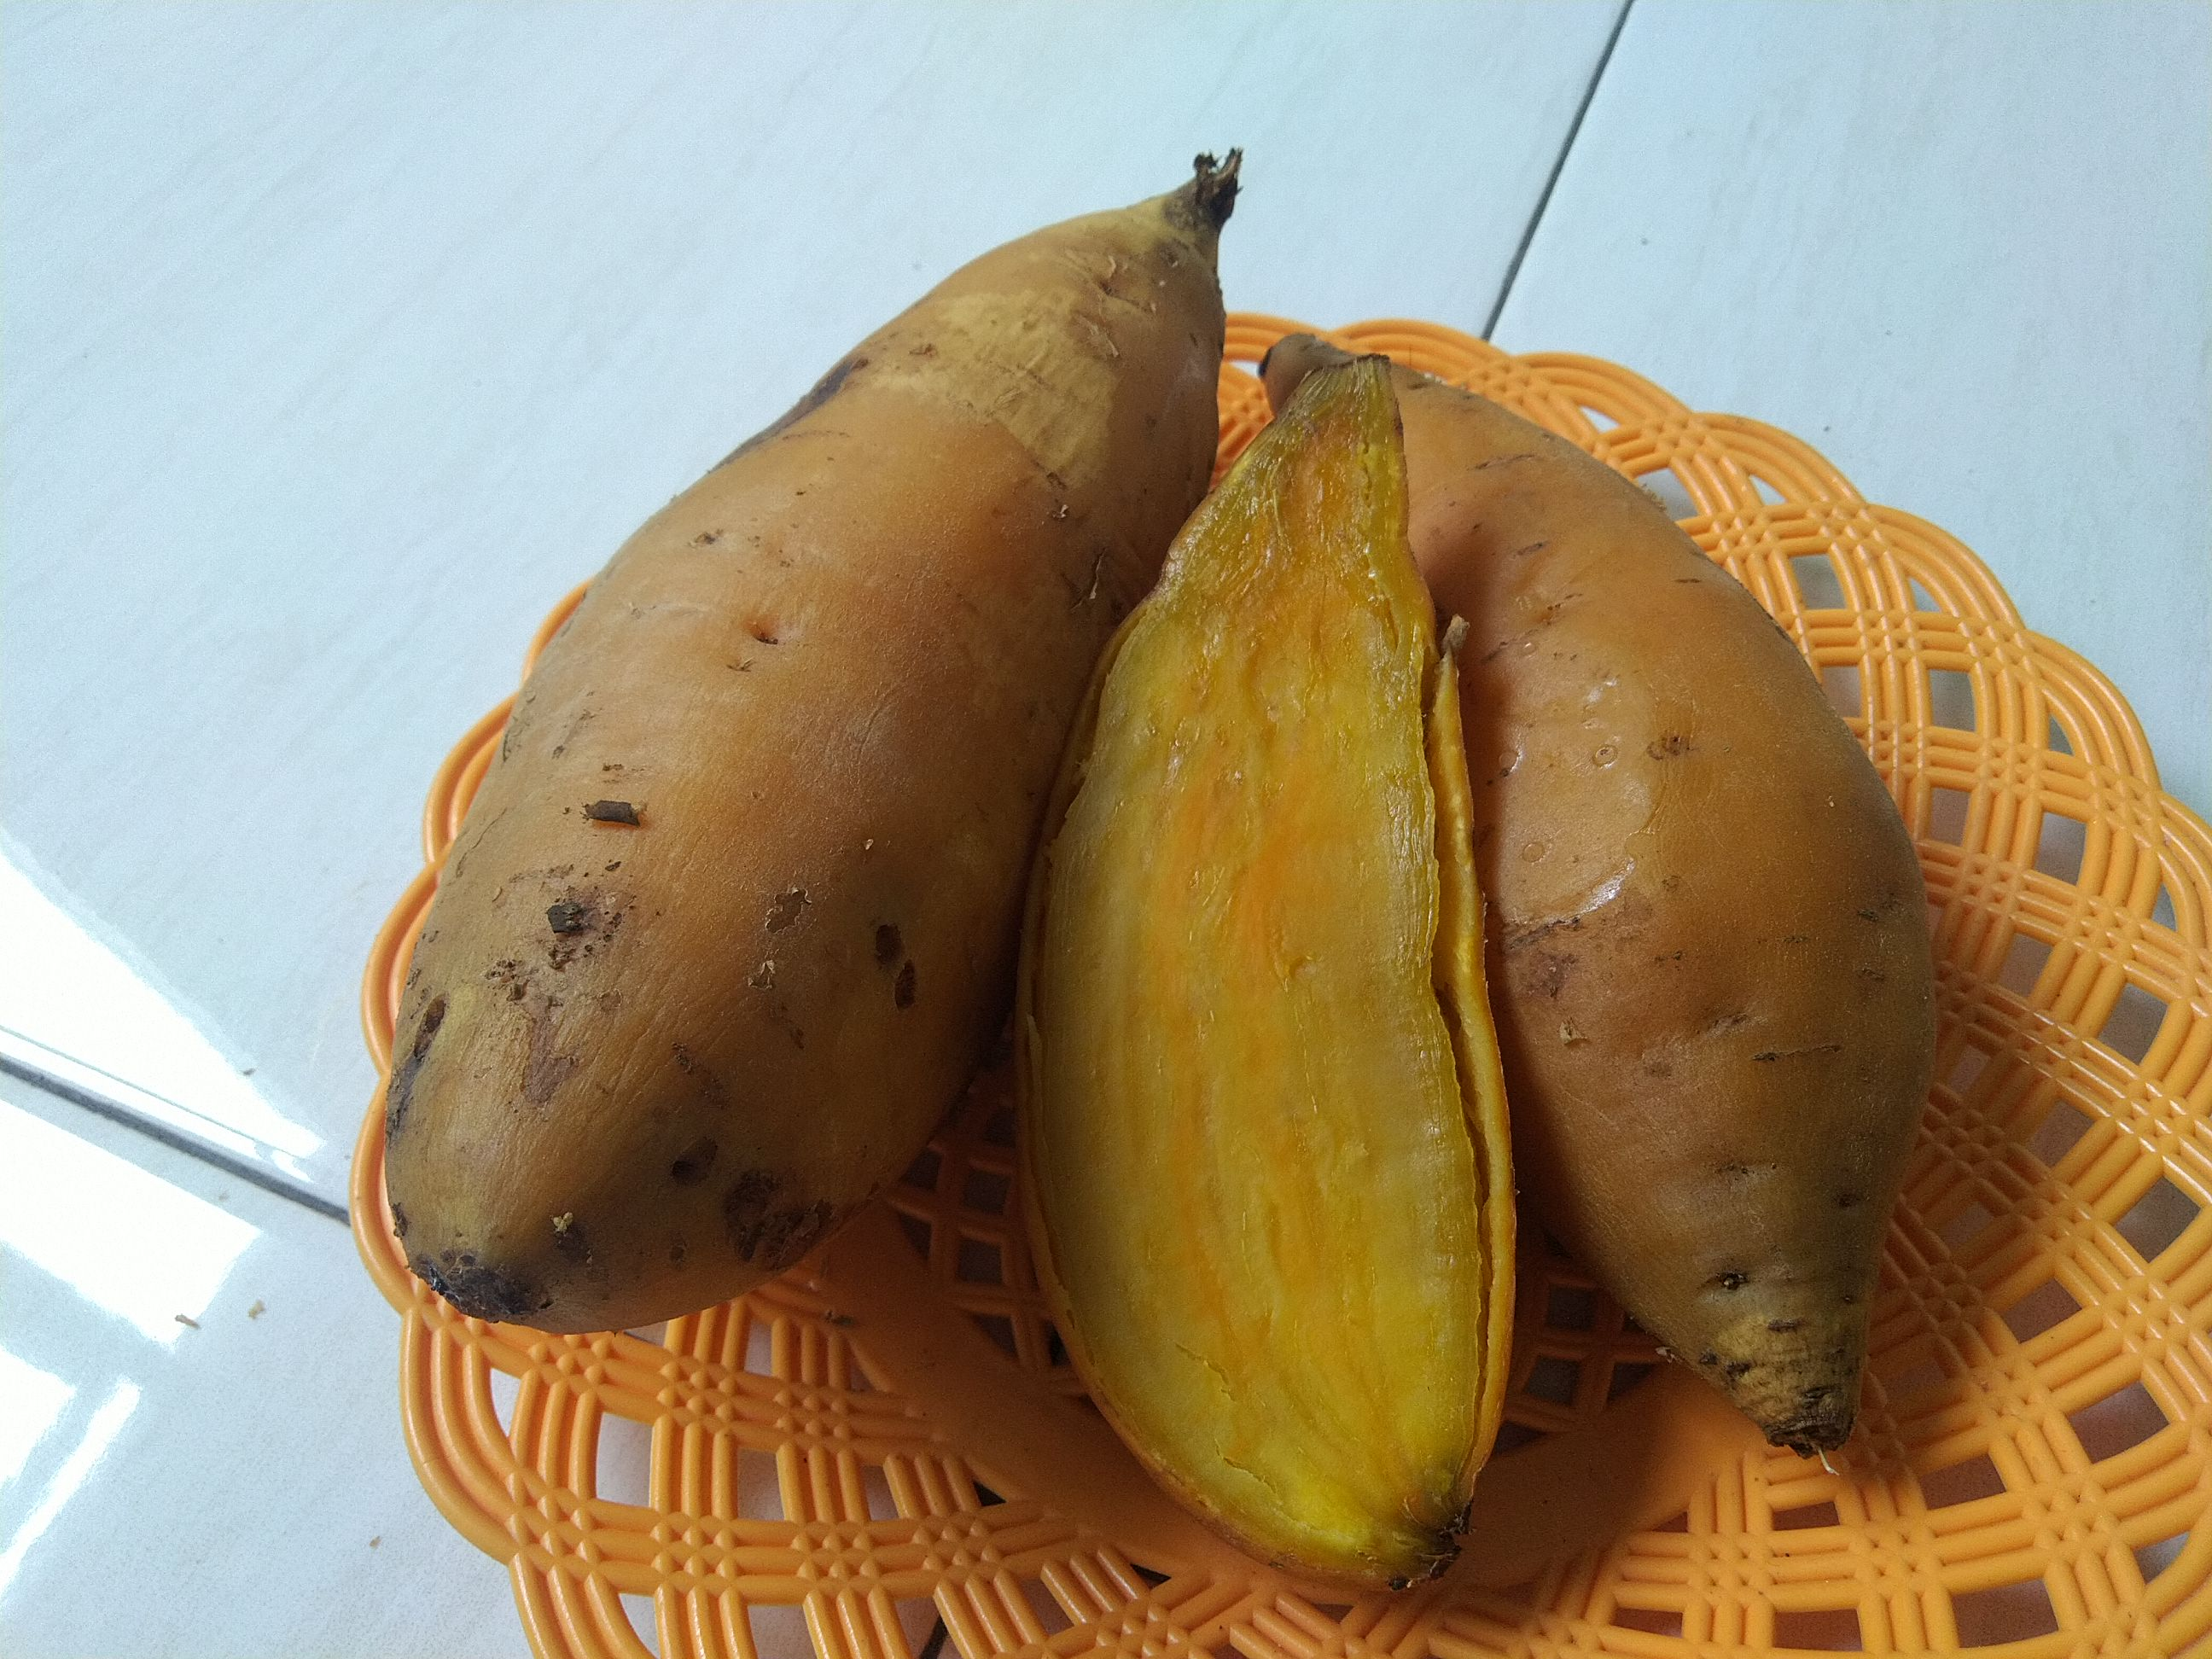ubi cilembu: (385, 122, 2013, 1561), (381, 150, 1244, 1338), (1263, 326, 1939, 1499), (1012, 342, 1533, 1608)
